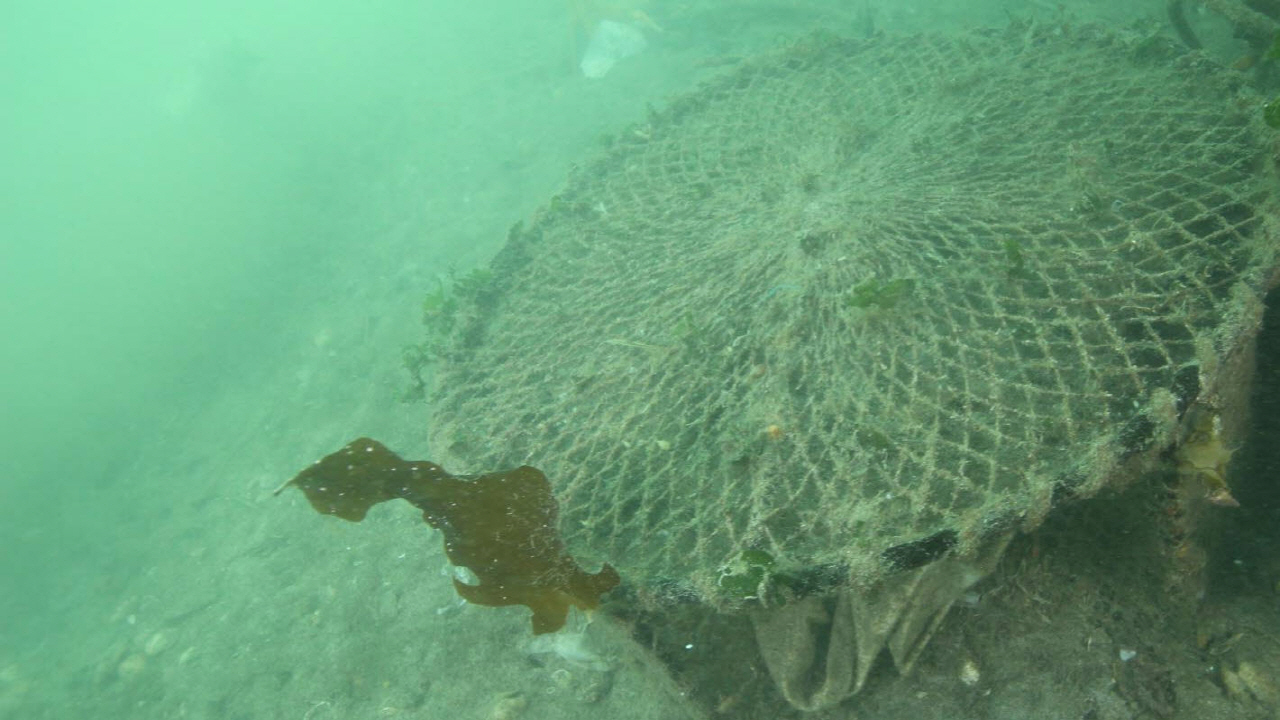circular fish trap: (425, 11, 1280, 596)
